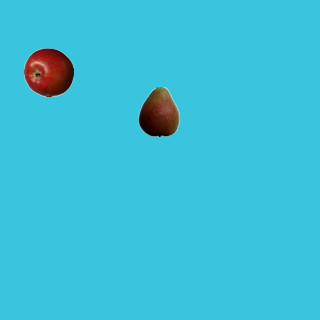Apple Braeburn: (23, 47, 73, 97)
Pear Forelle: (133, 86, 183, 136)
